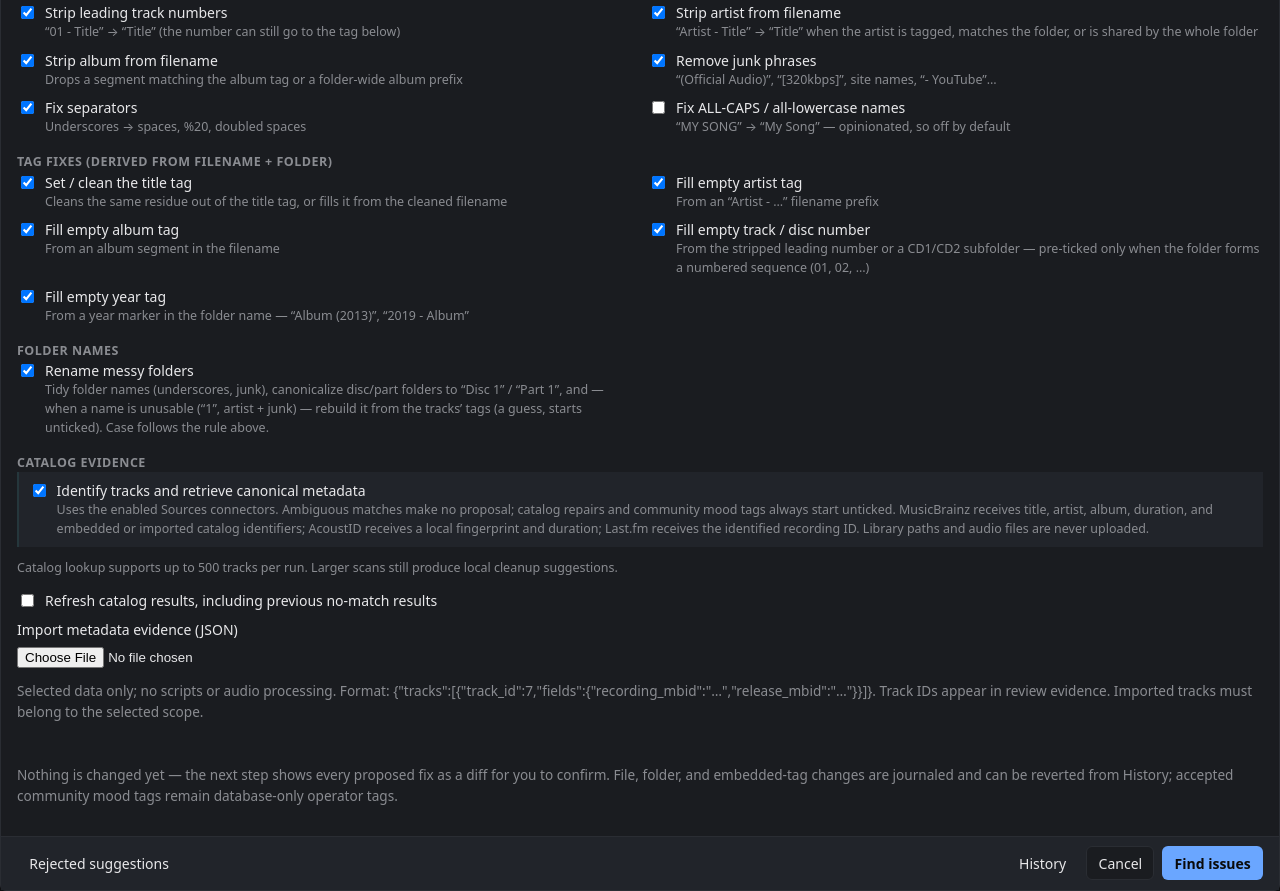
Test: CleanupWorkflow catalog enrichment › keeps local suggestions reviewable when a catalog request is unavailable
This screenshot has width=1280, height=891.
(page scrolled)
Click the button "Find issues": click(1213, 863) [1162, 846, 1263, 880]
(page scrolled)
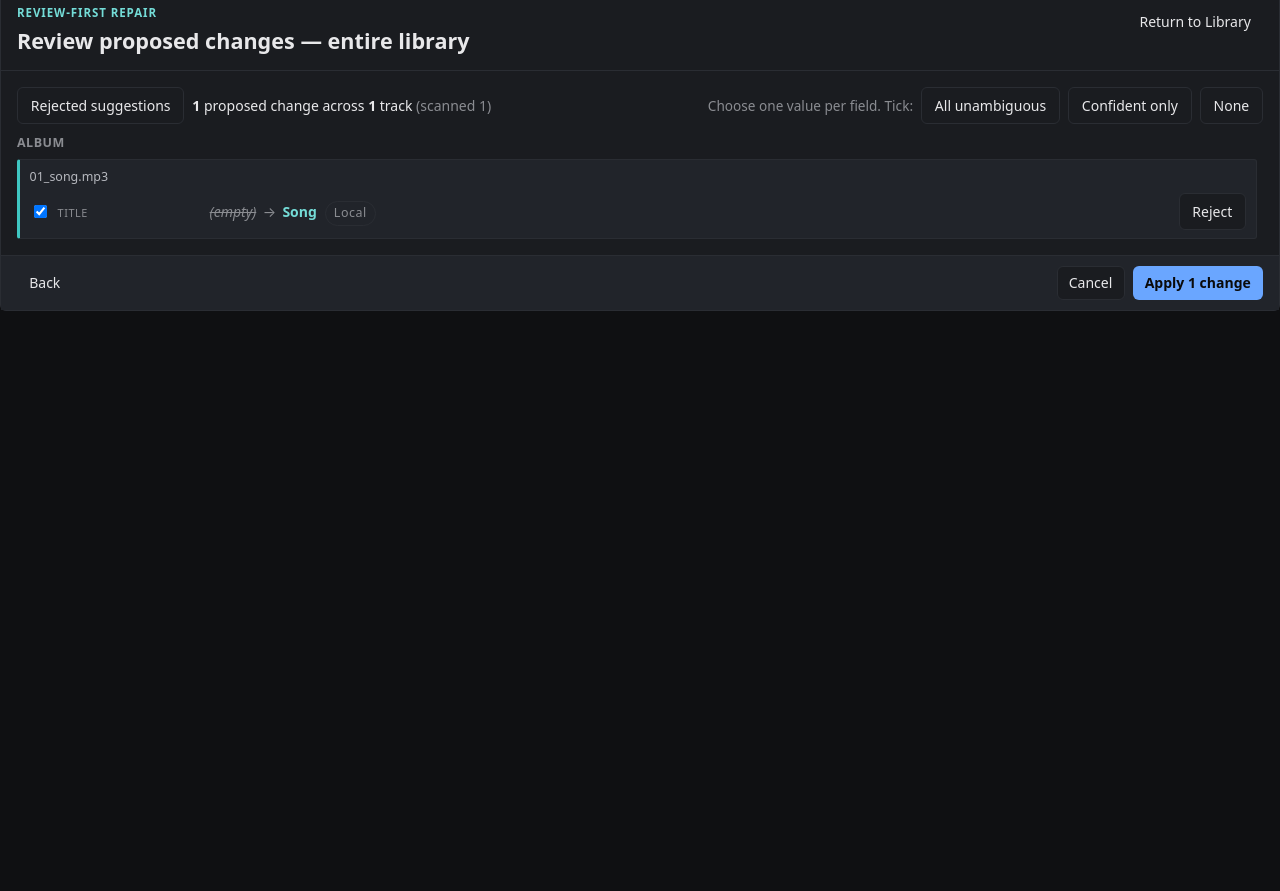
Expected: the text "Song" is shown, [282, 202, 317, 221]
Expected: the text "01_song.mp3" is shown, [30, 168, 108, 185]
